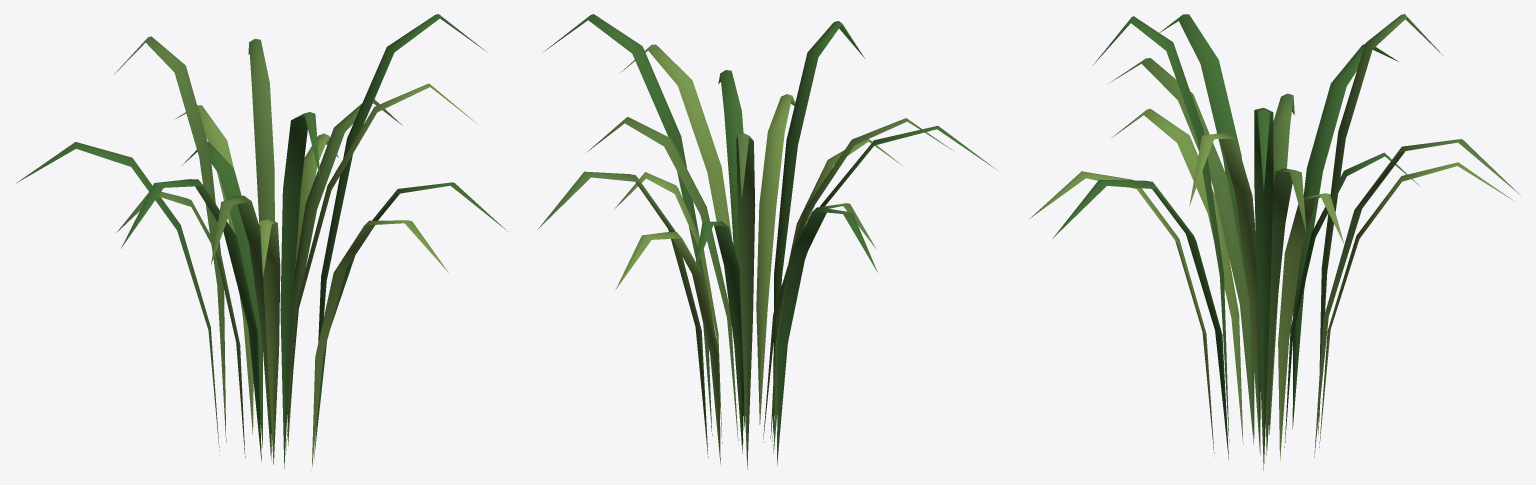
The model's file is meadow_sedge.glb.
3 views of the same model, side by side, from view 1: azimuth 30°, elevation 25°; view 2: azimuth 150°, elevation 25°; view 3: azimuth 270°, elevation 25° (orthographic). The views are drawn at different scales.
Visible parts, largest first — view 1: body; view 2: body; view 3: body.
Part boxes in pixels (x1,y1,x2,y2): body: (16,14,507,470); body: (537,14,996,469); body: (1029,14,1520,470).
Size of the model in its own units: 0.5611 by 0.5152 by 0.5424.
